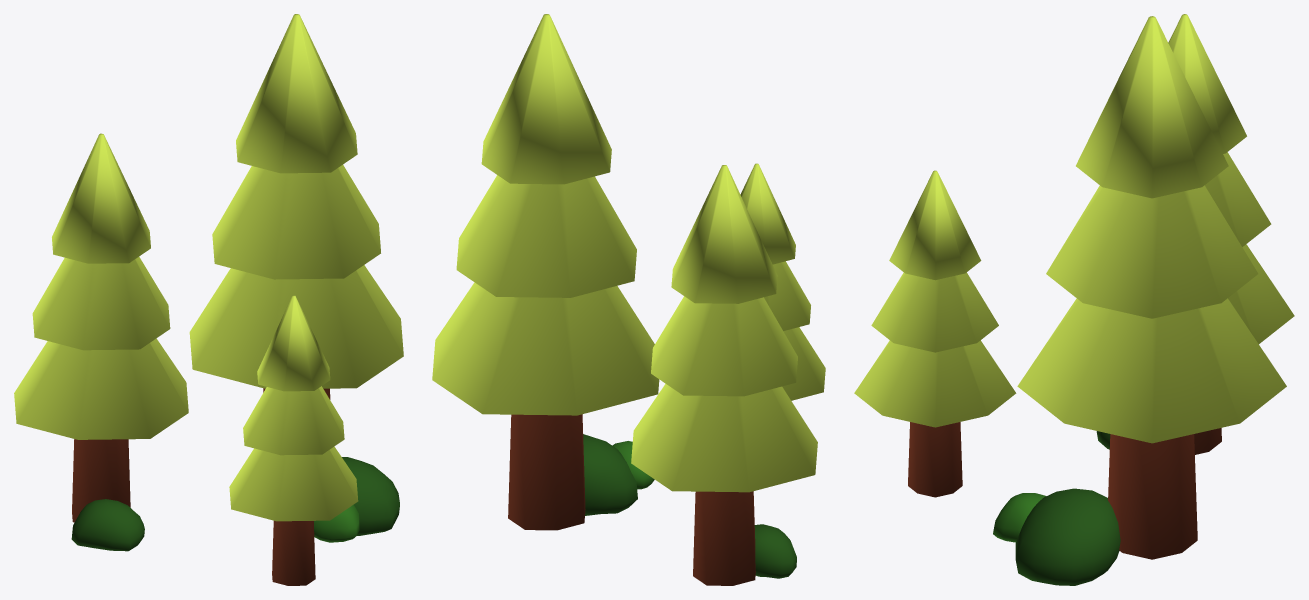
File: arvores juntas.fbx
3 views of the same model, side by side, from view 1: azimuth 30°, elevation 25°; view 2: azimuth 150°, elevation 25°; view 3: azimuth 270°, elevation 25° (orthographic). The views are drawn at different scales.
Visible parts, largest first — view 1: arvores juntas; view 2: arvores juntas; view 3: arvores juntas.
Part boxes in pixels (bbox=[...]): arvores juntas: bbox=[14, 14, 403, 585]; arvores juntas: bbox=[432, 14, 825, 585]; arvores juntas: bbox=[854, 14, 1294, 585].
Bounding box in the file's own units: 1976 × 2502 × 1819.
